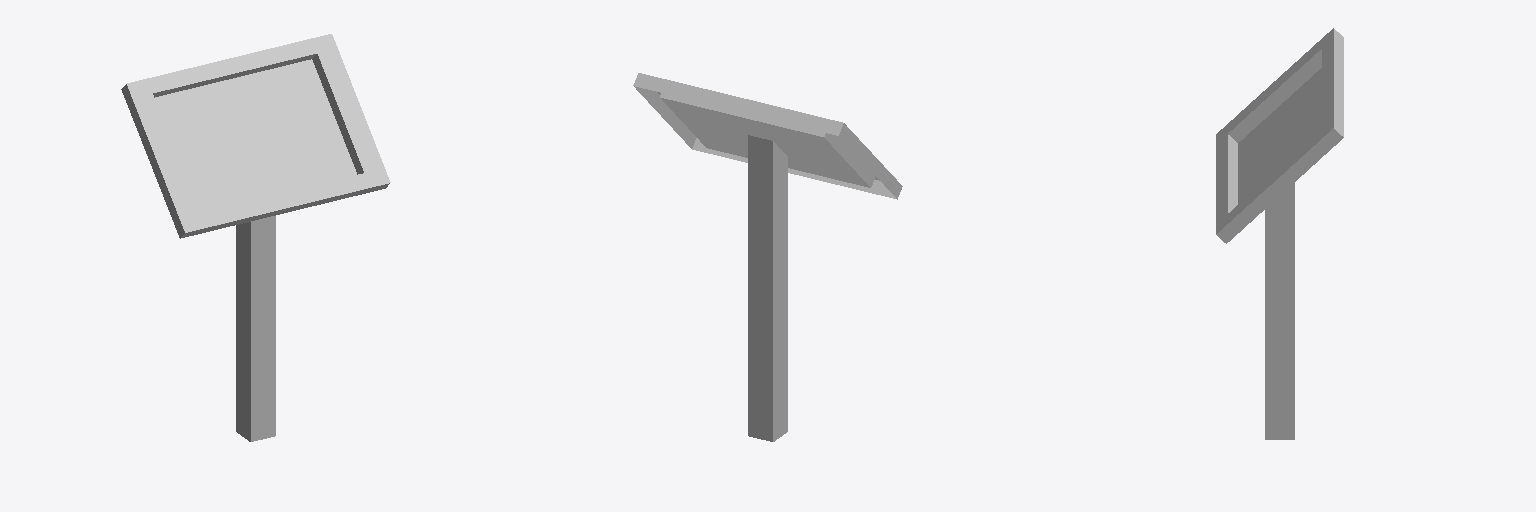
The model's file is levelstarter.obj.
3 renders of one model, left to right at view 1: azimuth 30°, elevation 25°; view 2: azimuth 150°, elevation 25°; view 3: azimuth 270°, elevation 25°, orthographic.
Visible parts, largest first — view 1: Plane; view 2: Plane; view 3: Plane.
Part boxes in pixels (bbox=[...]): Plane: bbox=[121, 34, 390, 441]; Plane: bbox=[633, 73, 902, 441]; Plane: bbox=[1216, 28, 1343, 439].
Bounding box in the file's own units: 0.8 × 1.32 × 0.4313.